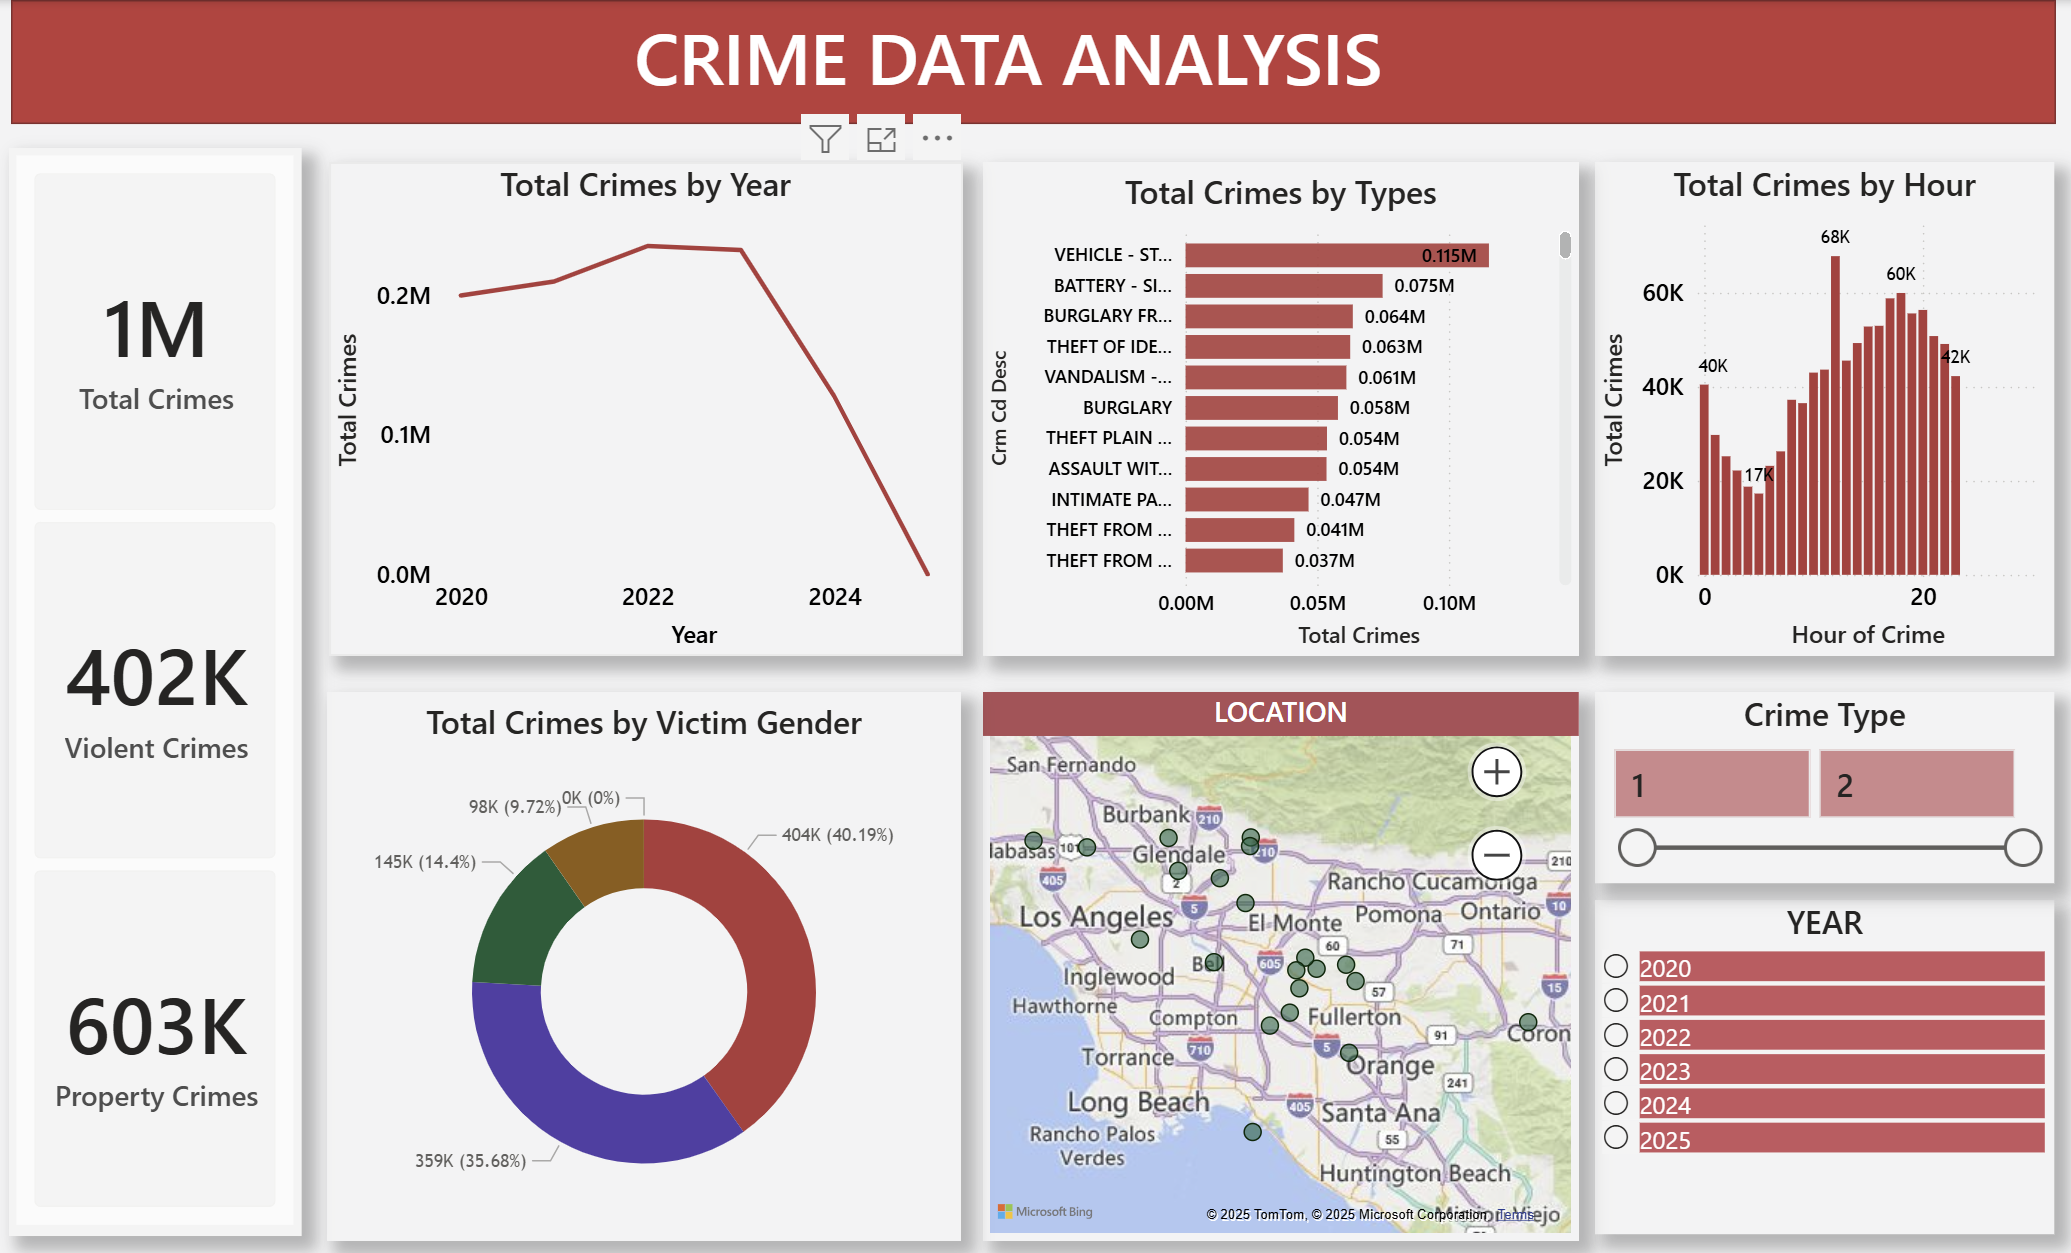

What the dashboard file says about the page in this screenshot:
{"tool":"powerbi","page":{"name":"Page 1","canvas":[1400,850],"ordinal":0},"visuals":[{"type":"shape","box":[9,0,1373,83.3],"z":0},{"type":"textbox","box":[423.2,0,522.2,99],"z":1000},{"type":"cardVisual","fields":{"Data":["Crime_Data_from_2020_to_Present.Total Crime","Crime_Data_from_2020_to_Present.Violent Crimes","Crime_Data_from_2020_to_Present.Property Crimes"]},"box":[8.4,99,196.6,730.7],"z":2000},{"type":"lineChart","fields":{"Category":["Crime_Data_from_2020_to_Present.Year"],"Y":["Crime_Data_from_2020_to_Present.Total Crimes"]},"box":[223.3,108.3,425,331.7],"z":3000},{"type":"map","title":"LOCATION","fields":{"Y":["Avg(Crime_Data_from_2020_to_Present.LAT)"],"X":["Avg(Crime_Data_from_2020_to_Present.LON)"],"Category":["Crime_Data_from_2020_to_Present.AREA NAME"]},"box":[661.4,464.3,400,368.6],"z":4000},{"type":"clusteredBarChart","title":"Total Crimes by Types","fields":{"Y":["Crime_Data_from_2020_to_Present.Total Crimes"],"Category":["Crime_Data_from_2020_to_Present.Crm Cd Desc"]},"box":[661.7,108.3,400,331.7],"z":5000},{"type":"clusteredColumnChart","title":"Total Crimes by Hour ","fields":{"Y":["Crime_Data_from_2020_to_Present.Total Crimes"],"Category":["Crime_Data_from_2020_to_Present.Hour of Crime"]},"box":[1073.3,108.3,308.3,331.7],"z":6000},{"type":"donutChart","title":"Total Crimes by Victim Gender","fields":{"Category":["Crime_Data_from_2020_to_Present.Vict Sex"],"Y":["Crime_Data_from_2020_to_Present.Total Crimes"]},"box":[221.4,464.3,425.7,368.6],"z":7000},{"type":"listSlicer","title":"YEAR","fields":{"Values":["Crime_Data_from_2020_to_Present.Year"]},"box":[1072.9,604.3,308.6,224.3],"z":8000},{"type":"slicer","title":"Crime Type","fields":{"Values":["Crime_Data_from_2020_to_Present.Part 1-2"]},"box":[1072.9,464.3,308.6,128.6],"z":9000}]}

Visuals, with their boxes in screenshot pixels (x1, y1, x2, y2), scaled from the page's 1400x850 canvas onto the 2071x1253 screenshot:
shape: bbox=(13, 0, 2044, 123)
textbox: bbox=(626, 0, 1399, 146)
cardVisual - Crime_Data_from_2020_to_Present.Total Crime x Crime_Data_from_2020_to_Present.Violent Crimes: bbox=(12, 146, 303, 1223)
lineChart - Crime_Data_from_2020_to_Present.Year x Crime_Data_from_2020_to_Present.Total Crimes: bbox=(330, 160, 959, 649)
"LOCATION" map: bbox=(978, 684, 1570, 1228)
"Total Crimes by Types" clusteredBarChart: bbox=(979, 160, 1571, 649)
"Total Crimes by Hour " clusteredColumnChart: bbox=(1588, 160, 2044, 649)
"Total Crimes by Victim Gender" donutChart: bbox=(328, 684, 957, 1228)
"YEAR" listSlicer: bbox=(1587, 891, 2044, 1221)
"Crime Type" slicer: bbox=(1587, 684, 2044, 874)
